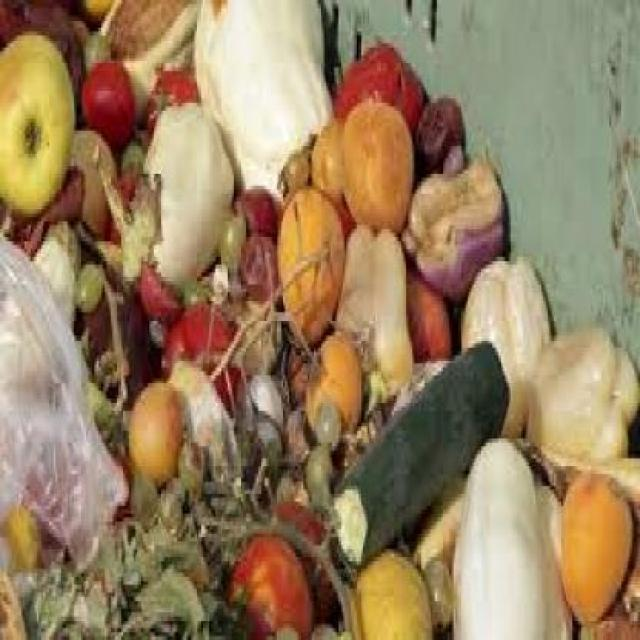garbage: (9, 0, 501, 635), (469, 328, 638, 592)
